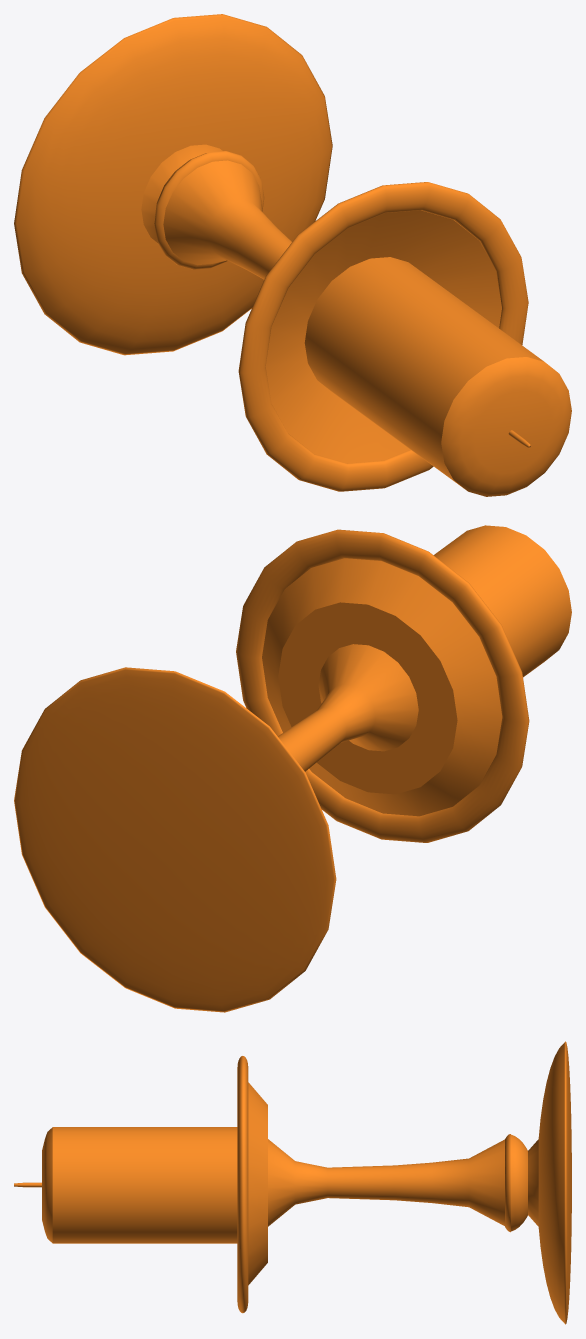
The picture shows the model from 3 angles, top to bottom: view 1: azimuth 30°, elevation 25°; view 2: azimuth 150°, elevation 25°; view 3: azimuth 270°, elevation 25°; orthographic projection. The views are drawn at different scales.
Size of the model in its own units: 0.5125 by 0.5125 by 1.
